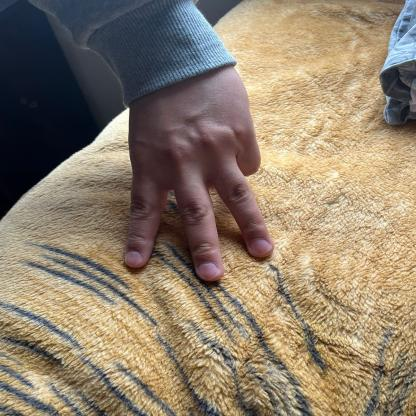M: (112, 35, 283, 283)
